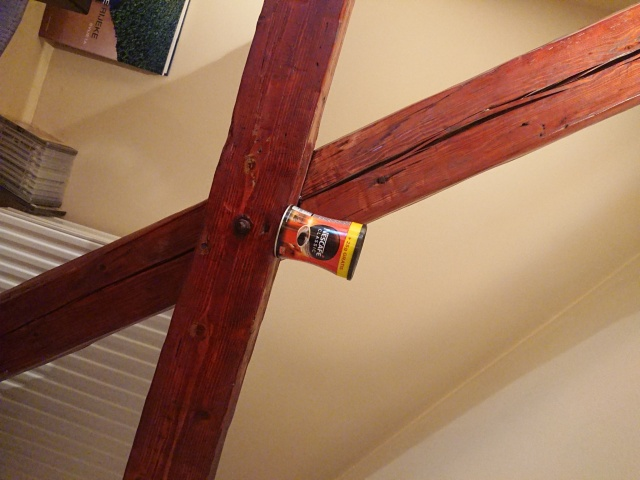Nescafe Classic 225g: (271, 201, 370, 283)
